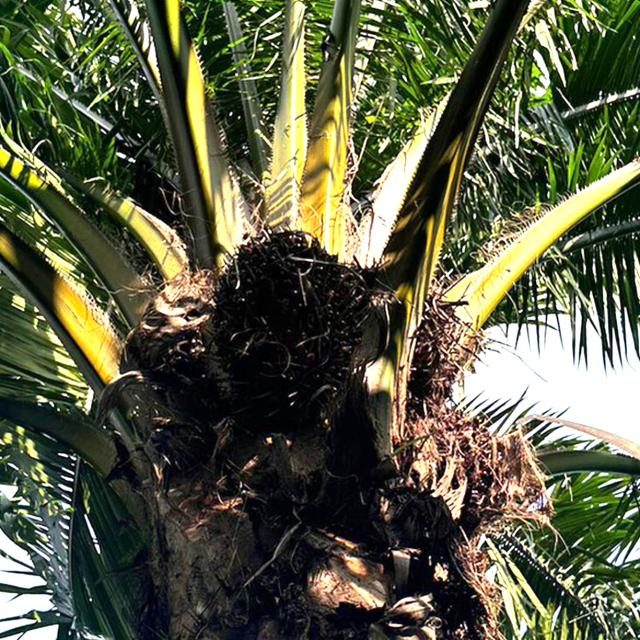ripe: (203, 212, 383, 418)
